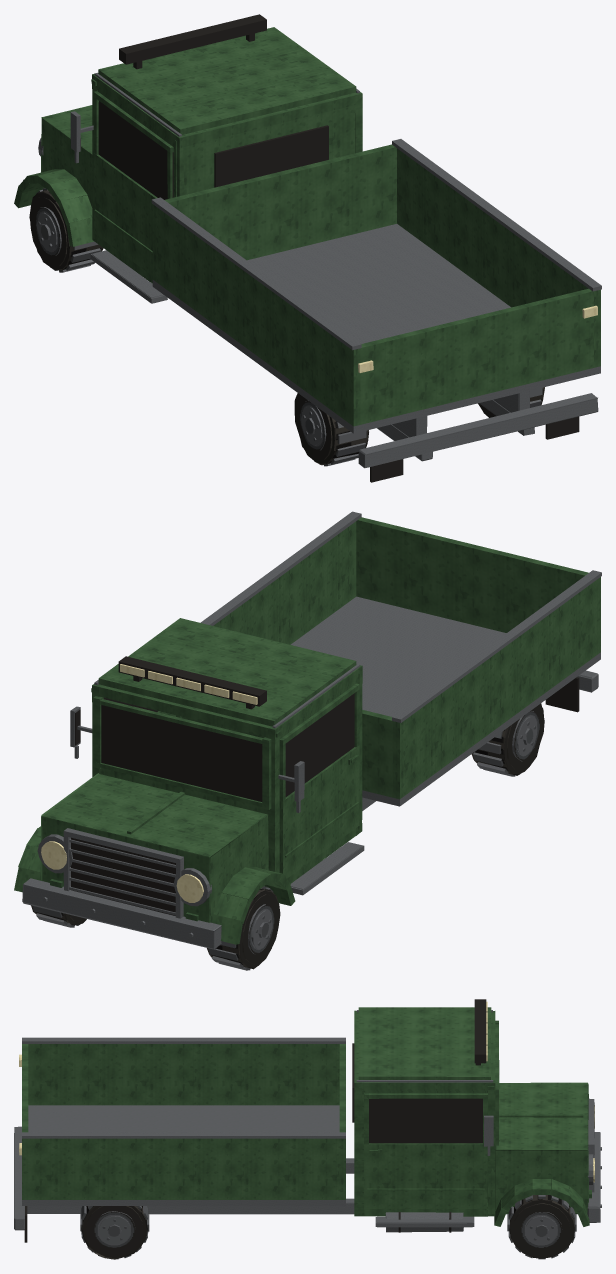
File: timber_wolf_4x4.glb
3 renders of one model, top to bottom at view 1: azimuth 30°, elevation 25°; view 2: azimuth 150°, elevation 25°; view 3: azimuth 270°, elevation 25°, orthographic. The views are drawn at different scales.
Visible parts, largest first — view 1: TimberWolf4x4, Tailgate, Door_L, Glass_L, Wheel_L1, Wheel_L2; view 2: TimberWolf4x4, Tailgate, Door_L, Glass_L, Wheel_L1, Wheel_L2, Wheel_R1; view 3: TimberWolf4x4, Door_R, Glass_R, Wheel_R1, Wheel_R2, Tailgate.
Part boxes in pixels (x1,y1,x2,y2): TimberWolf4x4: (14, 14, 601, 482); Tailgate: (360, 288, 593, 424); Door_L: (93, 91, 173, 275); Glass_L: (98, 101, 173, 199); Wheel_L1: (29, 188, 103, 272); Wheel_L2: (294, 393, 368, 466); TimberWolf4x4: (14, 511, 601, 949); Tailgate: (356, 517, 588, 632); Door_L: (279, 683, 359, 878); Glass_L: (285, 693, 354, 796); Wheel_L1: (207, 886, 280, 970); Wheel_L2: (471, 703, 544, 776); Wheel_R1: (31, 905, 86, 927); TimberWolf4x4: (14, 999, 601, 1242); Door_R: (364, 1093, 487, 1208); Glass_R: (369, 1098, 482, 1143); Wheel_R1: (507, 1195, 576, 1259); Wheel_R2: (80, 1206, 149, 1259); Tailgate: (22, 1044, 28, 1132).
Bounding box in the file's own units: 3.05 × 2.79 × 7.72.
Materials: 5 (4 with a texture image).
